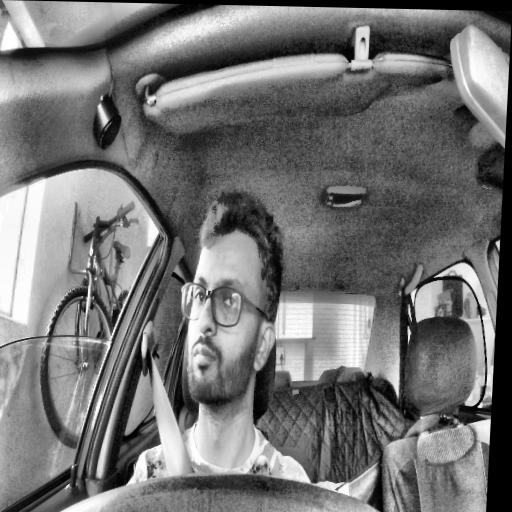awake: (175, 194, 286, 416)
